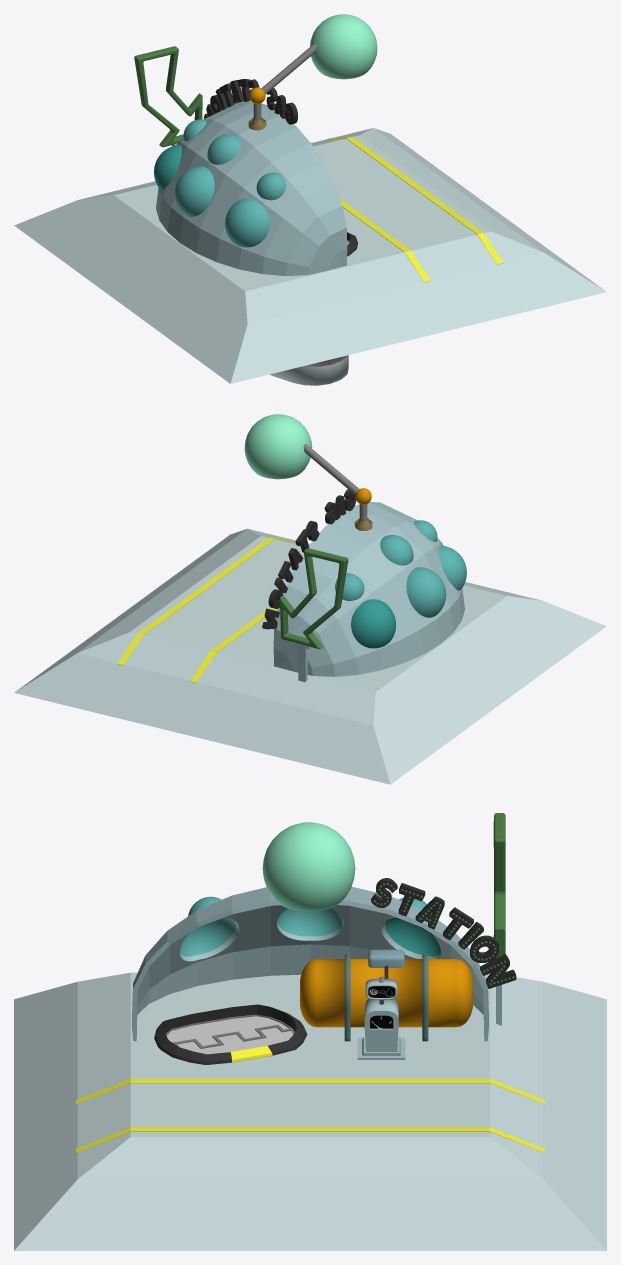
The model's file is pompiste.fbx.
3 views of the same model, one above another, from view 1: azimuth 30°, elevation 25°; view 2: azimuth 150°, elevation 25°; view 3: azimuth 270°, elevation 25° (orthographic). The views are drawn at different scales.
Parts seen in each view (by area): view 1: floor, GasHouse, Sphere.001, arrowPanel, GroundMarks, Text, Pumpist, Cylinder.001; view 2: floor, GasHouse, Sphere.001, arrowPanel, Text, GroundMarks, Cylinder.001; view 3: floor, GasHouse, Circle, Sphere.001, GroundMarks, Text, PumpistHideout, GasPump, HideoutDoorBack, arrowPanel, HideoutDoorFront, lamps (+2 smaller).
Boxes of the visible parts, x1,y1,x2,y2 form: floor: (14,128,606,383); GasHouse: (154,101,347,275); Sphere.001: (310,14,377,79); arrowPanel: (134,46,202,147); GroundMarks: (327,136,503,282); Text: (204,79,297,124); Pumpist: (269,355,348,385); Cylinder.001: (261,42,316,93); floor: (14,528,606,784); GasHouse: (273,502,466,676); Sphere.001: (244,414,312,479); arrowPanel: (280,548,348,649); Text: (262,489,356,629); GroundMarks: (117,537,293,683); Cylinder.001: (303,443,359,494); floor: (14,972,606,1250); GasHouse: (132,886,488,1041); Circle: (300,954,472,1041); Sphere.001: (262,822,355,911); GroundMarks: (76,1078,544,1152); Text: (371,878,516,988); PumpistHideout: (154,1004,306,1064); GasPump: (357,999,405,1059); HideoutDoorBack: (166,1014,292,1046); arrowPanel: (493,813,505,958); HideoutDoorFront: (174,1025,294,1054); lamps: (373,882,514,985).
Bounding box in the file's own units: 45.72 × 36.23 × 45.53.
